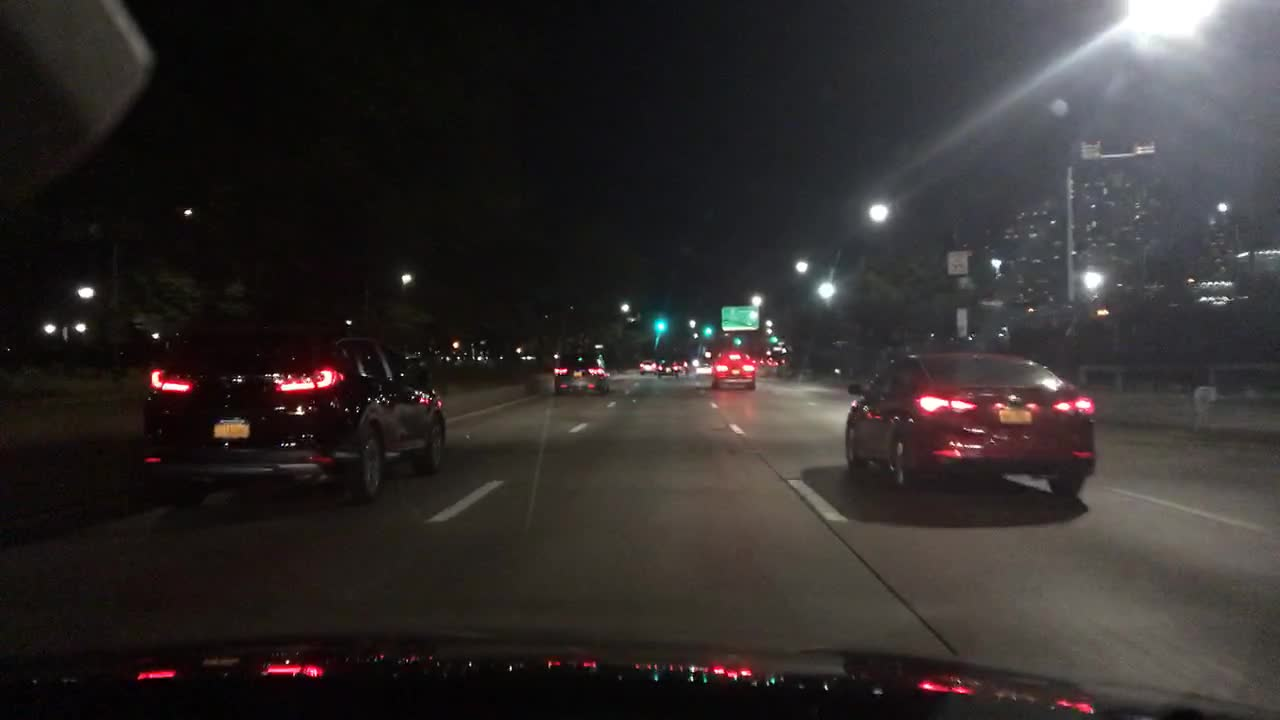car: (127, 321, 449, 512), (842, 345, 1101, 502), (550, 346, 613, 396), (710, 346, 758, 390), (653, 357, 677, 377), (637, 357, 662, 376), (671, 357, 691, 374)
traffic sign: (720, 305, 760, 330), (946, 248, 974, 276), (954, 305, 968, 339)
